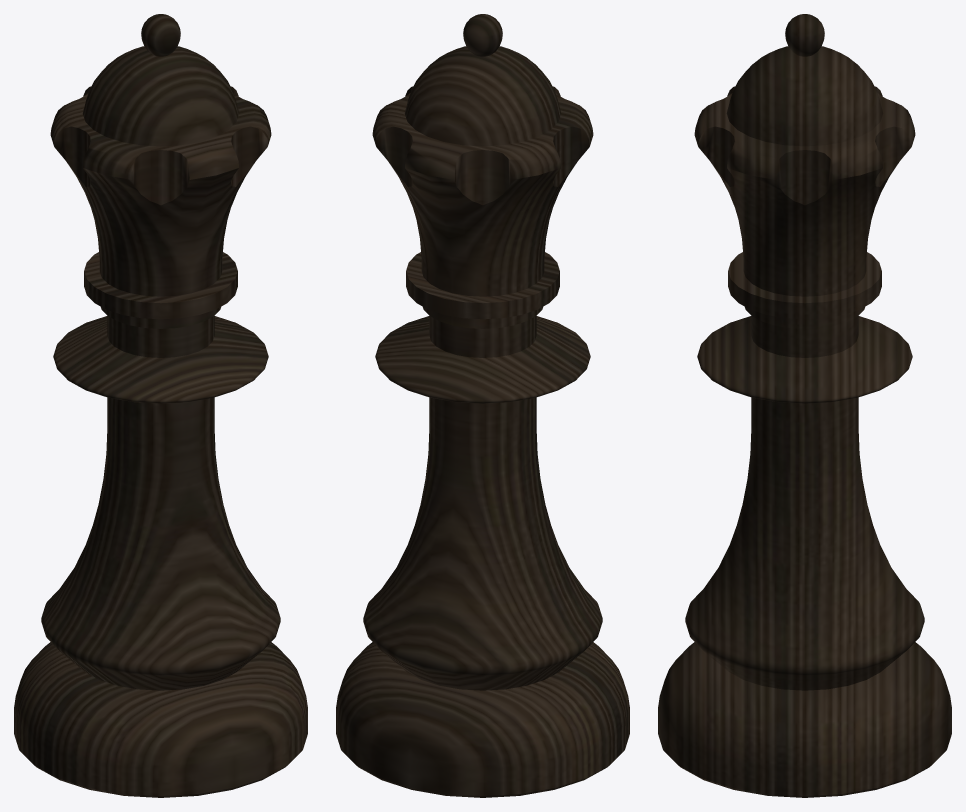
File: black_queen.gltf
3 renders of one model, left to right at view 1: azimuth 30°, elevation 25°; view 2: azimuth 150°, elevation 25°; view 3: azimuth 270°, elevation 25°, orthographic.
Visible parts, largest first — view 1: Material2063, Material2062, Material2064, Material2066, Material2065; view 2: Material2063, Material2062, Material2064, Material2066, Material2065; view 3: Material2063, Material2062, Material2064, Material2066, Material2065.
Part boxes in pixels (x1,y1,x2,y2): Material2063: (14,316,307,797); Material2062: (50,86,271,296); Material2064: (82,14,239,146); Material2066: (84,252,237,319); Material2065: (101,307,220,328); Material2063: (336,316,629,797); Material2062: (372,86,593,296); Material2064: (404,14,561,146); Material2066: (406,252,559,319); Material2065: (423,307,542,328); Material2063: (658,316,951,797); Material2062: (694,86,915,296); Material2064: (726,14,883,146); Material2066: (728,252,881,319); Material2065: (745,307,864,328).
Size of the model in its own units: 0.2069 by 0.5607 by 0.2069.
Materials: 1 (1 with a texture image).
